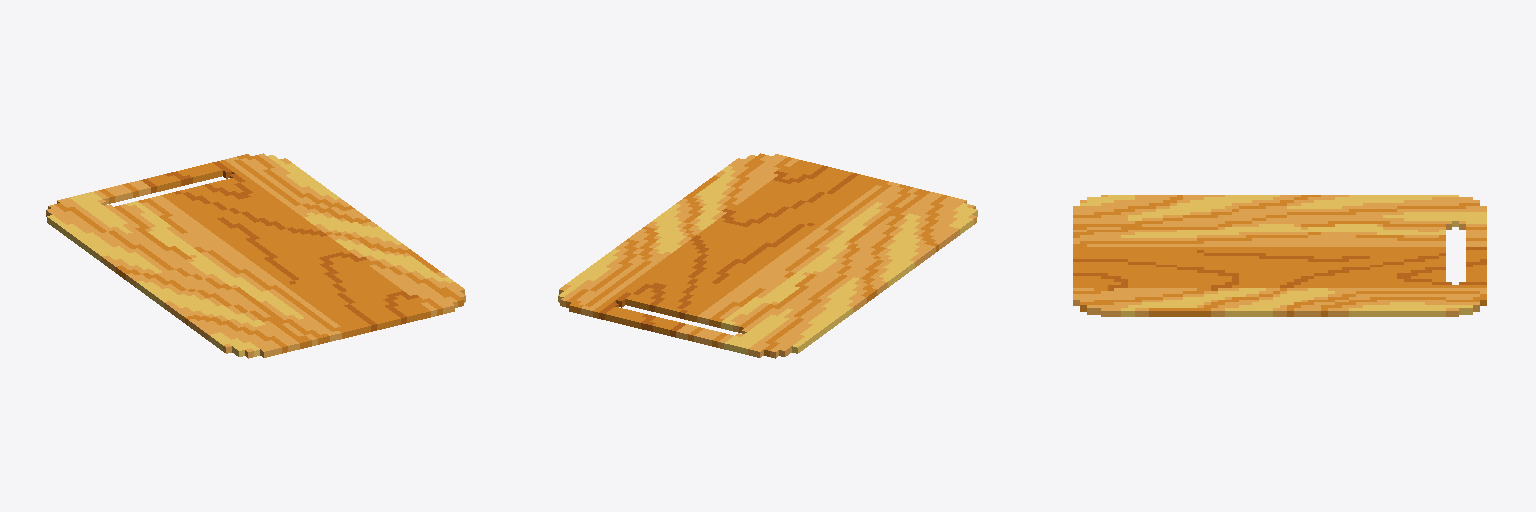
The picture shows the model from 3 angles: view 1: azimuth 30°, elevation 25°; view 2: azimuth 150°, elevation 25°; view 3: azimuth 270°, elevation 25°; orthographic projection.
Visible parts, largest first — view 1: object 1; view 2: object 1; view 3: object 1.
Boxes of the visible parts, x1=… form: object 1: x1=46, y1=153, x2=465, y2=358; object 1: x1=558, y1=153, x2=977, y2=358; object 1: x1=1073, y1=195, x2=1486, y2=316.
Bounding box in the file's own units: 4 × 0.1 × 6.
1 materials, 1 textured.